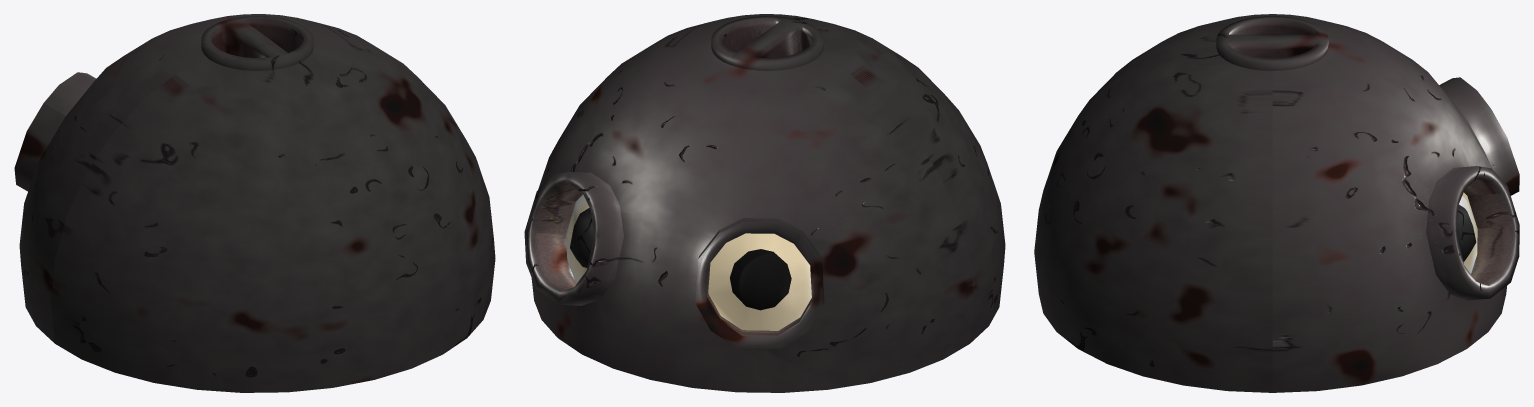
File: head.dae
3 renders of one model, left to right at view 1: azimuth 30°, elevation 25°; view 2: azimuth 150°, elevation 25°; view 3: azimuth 270°, elevation 25°, orthographic.
Parts seen in each view (by area): view 1: Head_0; view 2: Head_0; view 3: Head_0.
Boxes of the visible parts, <box> form: Head_0: <box>14,14,495,392</box>; Head_0: <box>524,14,1005,392</box>; Head_0: <box>1034,14,1519,392</box>.
Bounding box in the file's own units: 2 × 2.04 × 1.18.
1 material, 1 textured.
